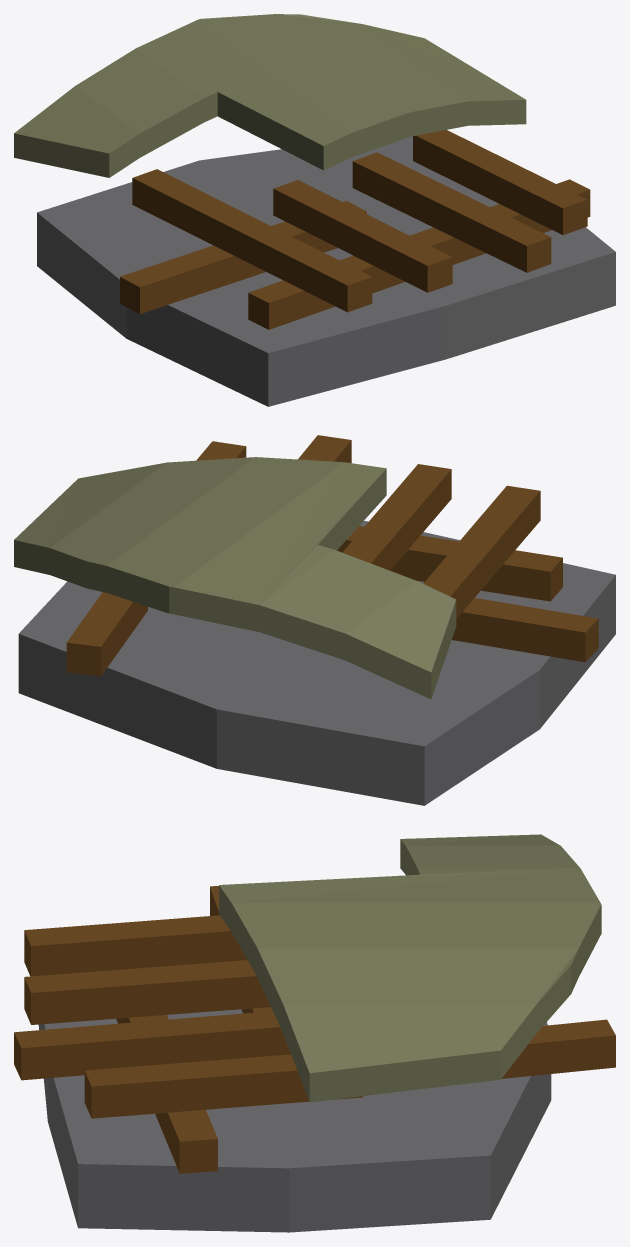
File: ship_chunk_1.obj
3 renders of one model, top to bottom at view 1: azimuth 30°, elevation 25°; view 2: azimuth 150°, elevation 25°; view 3: azimuth 270°, elevation 25°, orthographic. The views are drawn at different scales.
Visible parts, largest first — view 1: ship_chunk_1_0, ship_chunk_1_8, ship_chunk_1_3, ship_chunk_1_5, ship_chunk_1_4, ship_chunk_1_6, ship_chunk_1_1, ship_chunk_1_2; view 2: ship_chunk_1_0, ship_chunk_1_8, ship_chunk_1_3, ship_chunk_1_1, ship_chunk_1_4, ship_chunk_1_2, ship_chunk_1_7, ship_chunk_1_5, ship_chunk_1_6; view 3: ship_chunk_1_8, ship_chunk_1_0, ship_chunk_1_5, ship_chunk_1_4, ship_chunk_1_6, ship_chunk_1_3, ship_chunk_1_7, ship_chunk_1_2.
Boxes of the visible parts, x1,y1,x2,y2 form: ship_chunk_1_0: [37, 136, 615, 406]; ship_chunk_1_8: [14, 14, 526, 177]; ship_chunk_1_3: [132, 169, 372, 312]; ship_chunk_1_5: [352, 152, 551, 272]; ship_chunk_1_4: [273, 180, 452, 292]; ship_chunk_1_6: [413, 130, 587, 235]; ship_chunk_1_1: [120, 201, 366, 313]; ship_chunk_1_2: [248, 179, 590, 329]; ship_chunk_1_0: [18, 520, 615, 805]; ship_chunk_1_8: [14, 457, 456, 699]; ship_chunk_1_3: [423, 485, 540, 618]; ship_chunk_1_1: [452, 598, 598, 662]; ship_chunk_1_4: [342, 464, 451, 570]; ship_chunk_1_2: [337, 526, 562, 601]; ship_chunk_1_7: [66, 592, 147, 676]; ship_chunk_1_5: [298, 435, 351, 463]; ship_chunk_1_6: [196, 441, 246, 460]; ship_chunk_1_8: [219, 834, 601, 1102]; ship_chunk_1_0: [38, 1009, 551, 1232]; ship_chunk_1_5: [14, 1011, 290, 1080]; ship_chunk_1_4: [24, 960, 270, 1024]; ship_chunk_1_6: [84, 1054, 363, 1118]; ship_chunk_1_3: [24, 915, 247, 976]; ship_chunk_1_7: [501, 1019, 615, 1078]; ship_chunk_1_2: [116, 1015, 217, 1173].
Bounding box in the file's own units: 1.89 × 0.715 × 1.87.
